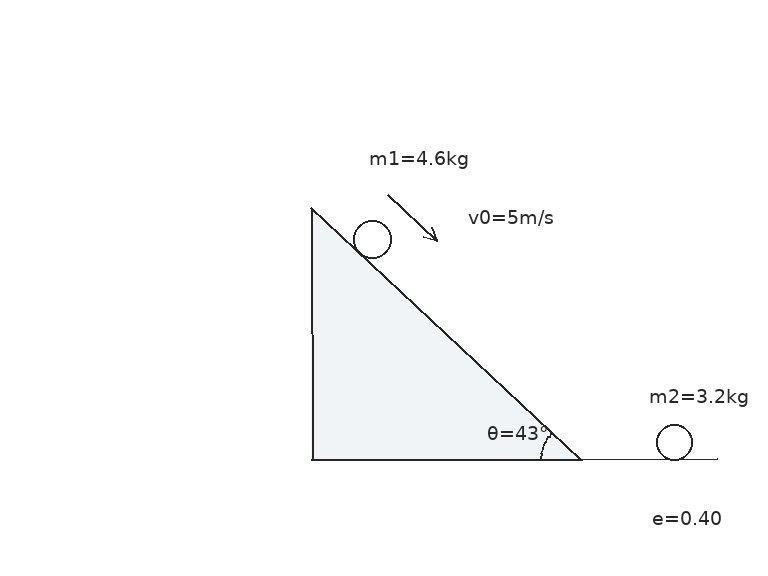ball: (351, 218, 393, 260), (654, 422, 694, 462)
ramp: (309, 206, 583, 462)
